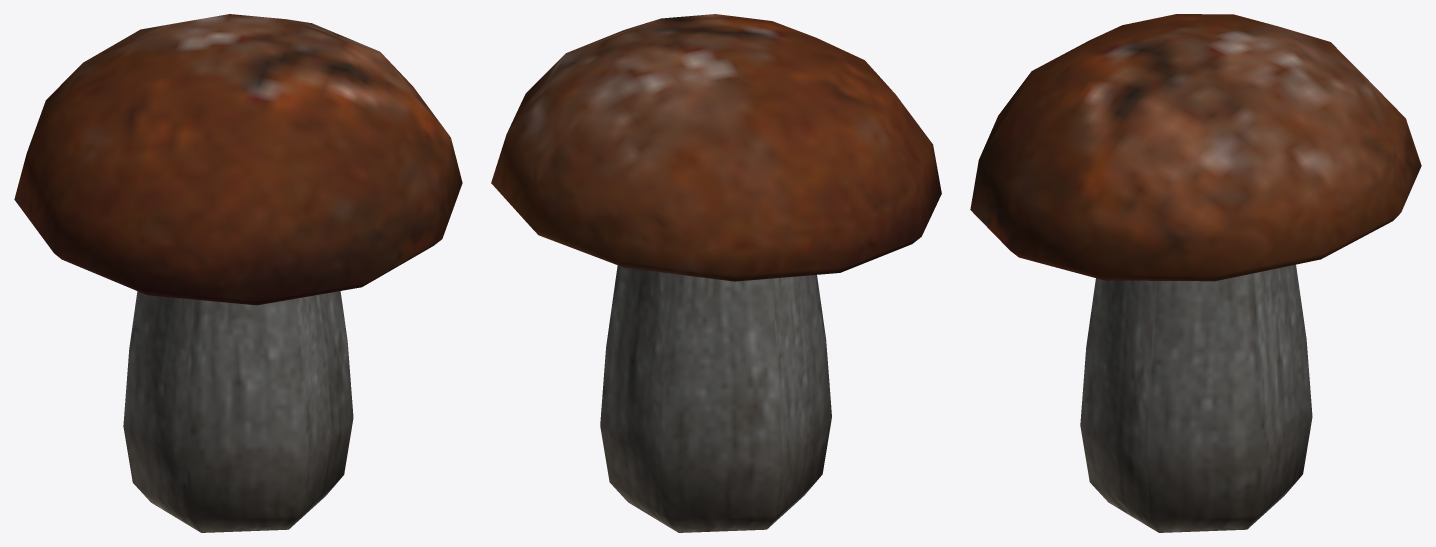
Rendered from mushroom_n_1_1.obj.
The picture shows the model from 3 angles, left to right: view 1: azimuth 30°, elevation 25°; view 2: azimuth 150°, elevation 25°; view 3: azimuth 270°, elevation 25°; orthographic projection.
Visible parts, largest first — view 1: mushroom_n_1_1; view 2: mushroom_n_1_1; view 3: mushroom_n_1_1.
Boxes of the visible parts, x1=… form: mushroom_n_1_1: x1=14, y1=14, x2=462, y2=532; mushroom_n_1_1: x1=491, y1=14, x2=941, y2=532; mushroom_n_1_1: x1=970, y1=14, x2=1421, y2=532.
Size of the model in its own units: 0.1971 by 0.2197 by 0.1968.
